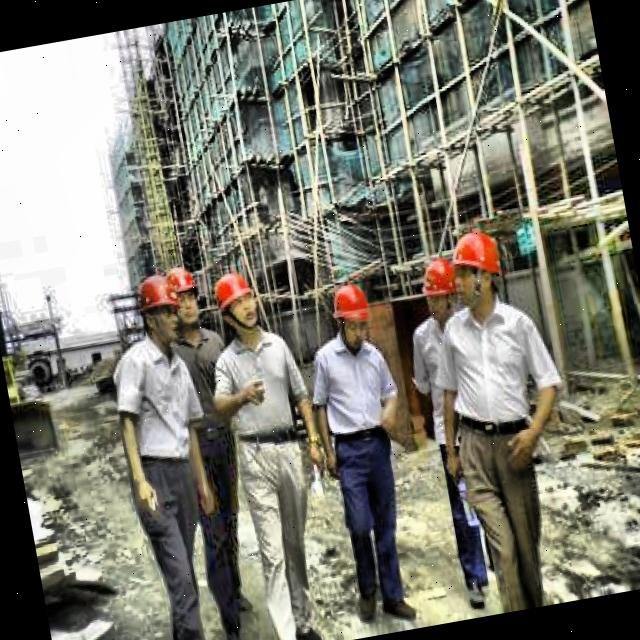helmet: (445, 228, 509, 318), (206, 262, 268, 344), (132, 270, 190, 348), (415, 255, 465, 329), (328, 282, 378, 350), (164, 262, 204, 330)
